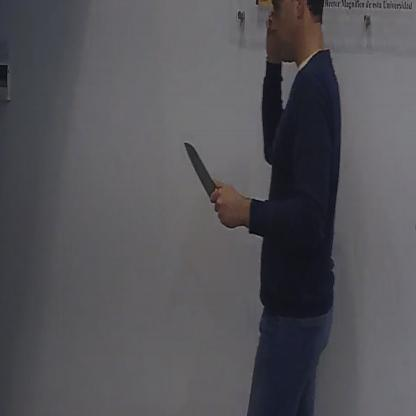knife: (181, 137, 229, 225)
